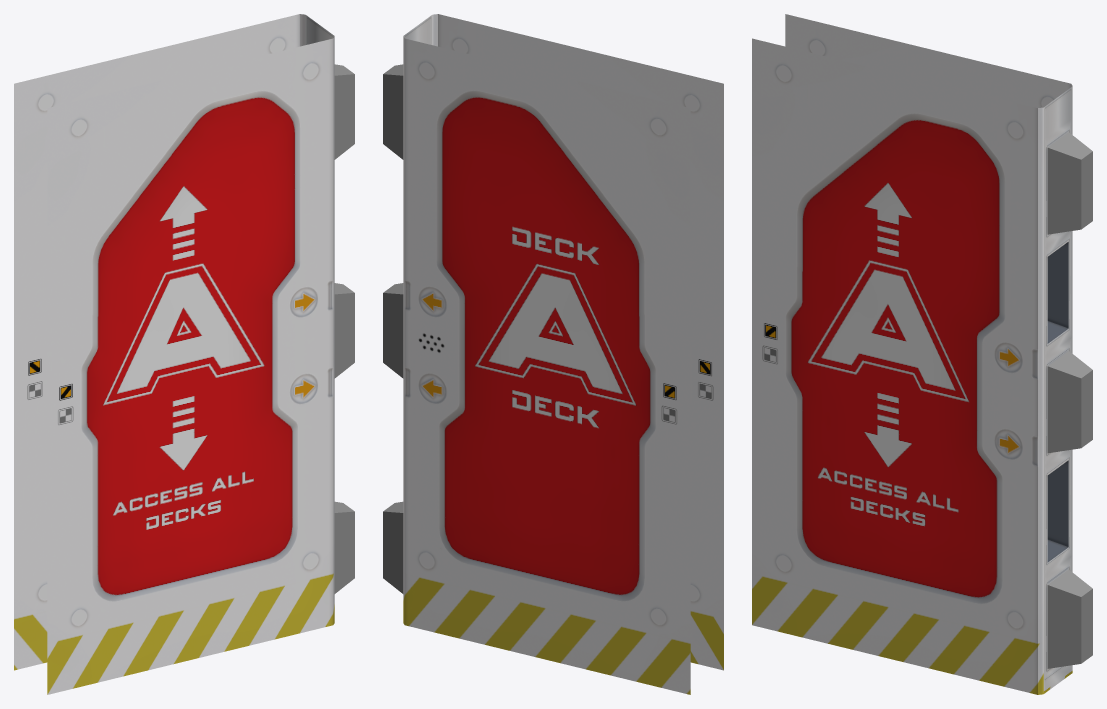
The model's file is Elevator_Door_left.fbx.
The picture shows the model from 3 angles, left to right: view 1: azimuth 30°, elevation 25°; view 2: azimuth 150°, elevation 25°; view 3: azimuth 330°, elevation 25°; orthographic projection.
Visible parts, largest first — view 1: Elevator_Door_left; view 2: Elevator_Door_left; view 3: Elevator_Door_left.
Boxes of the visible parts, box(x1,y1,x2,y2) form: Elevator_Door_left: box(14, 14, 354, 694); Elevator_Door_left: box(383, 14, 723, 694); Elevator_Door_left: box(752, 14, 1092, 694).
Size of the model in its own units: 176 by 310 by 32.
Materials: 2 (1 with a texture image).
